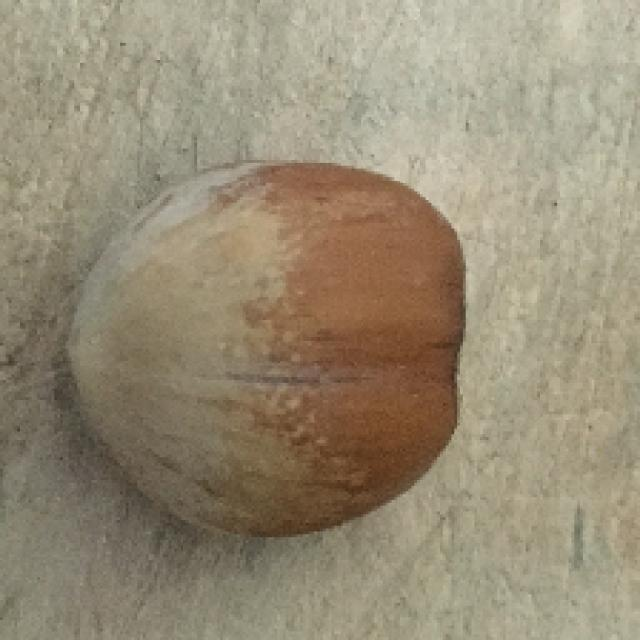qualityHazelnut: (51, 148, 468, 559)
